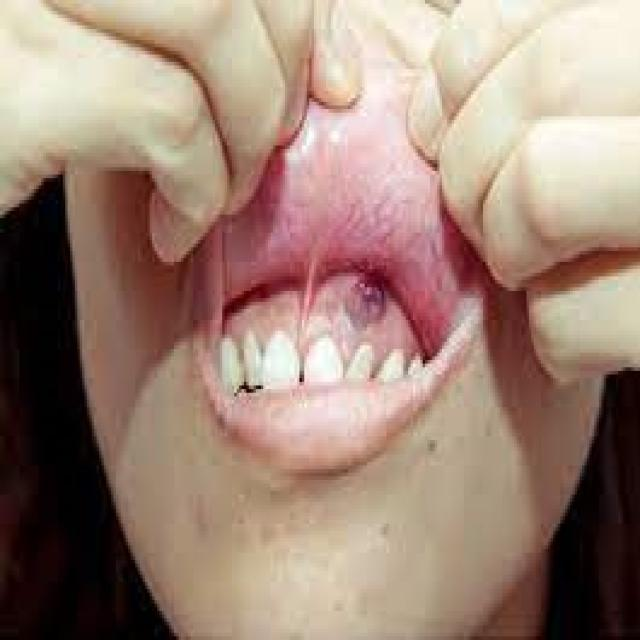abscess: (333, 261, 395, 344)
